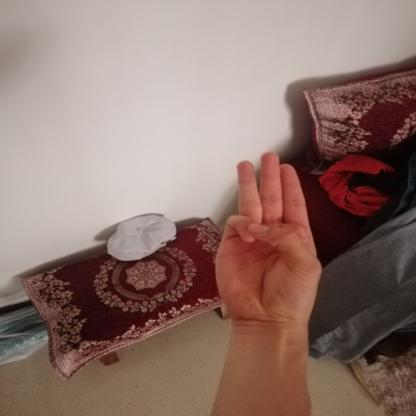THA: (194, 142, 341, 330)
